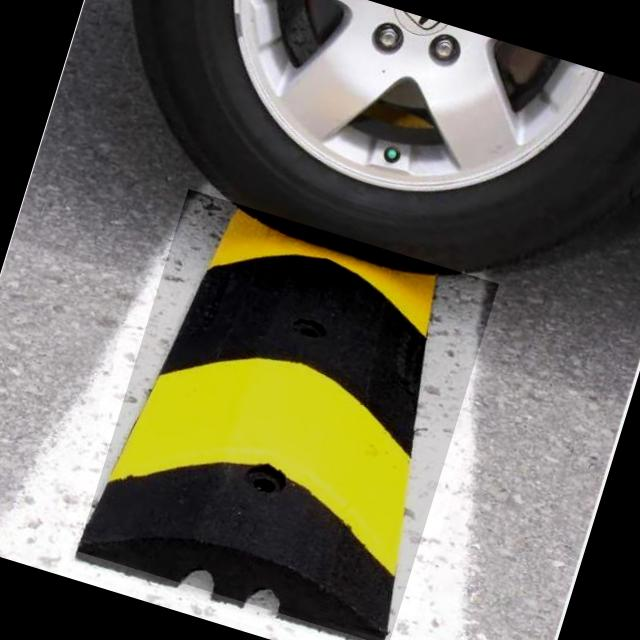bump: (76, 189, 498, 640)
